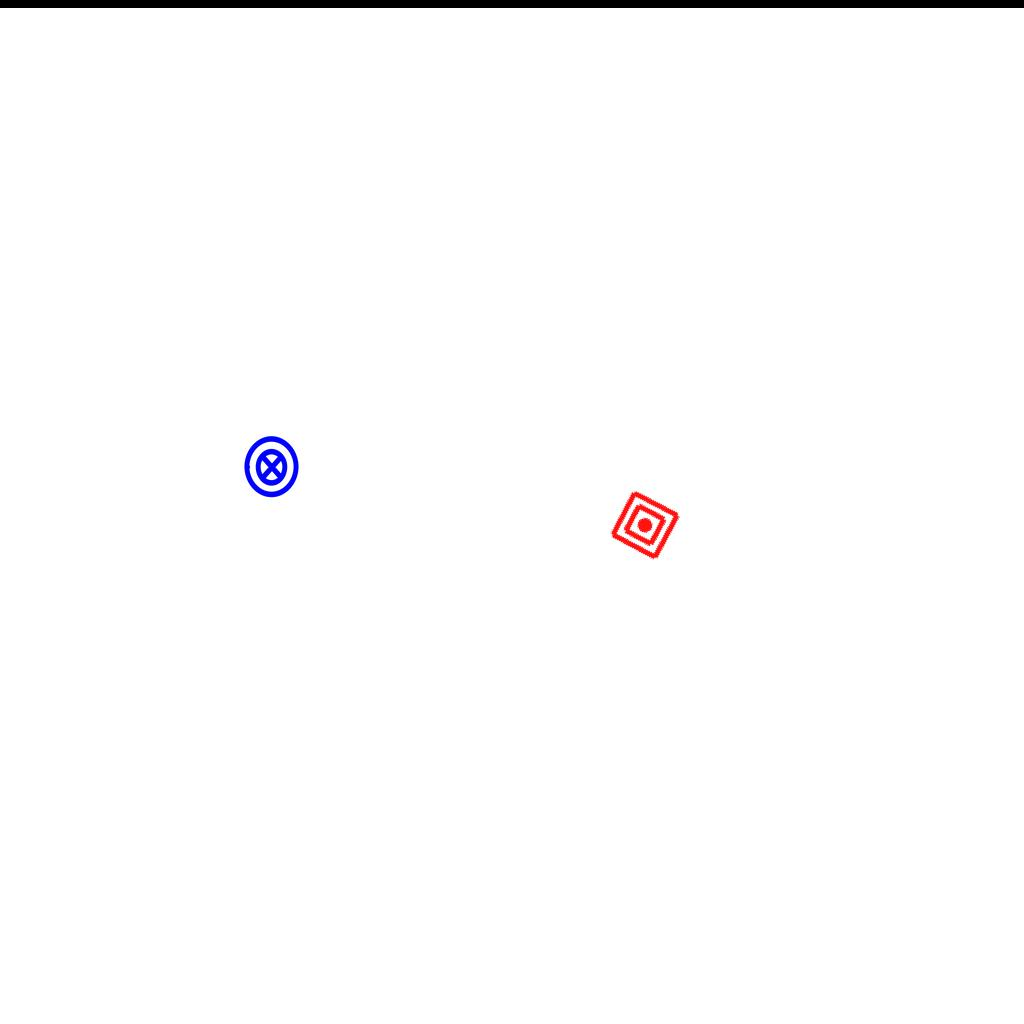NAM-Nichtautomatischer_Melder: (607, 487, 683, 563)
Taster_beleuchtet: (239, 434, 305, 500)
